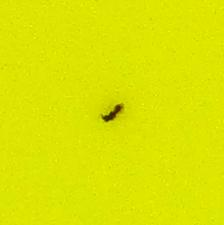Brachycera: (100, 100, 124, 125)
